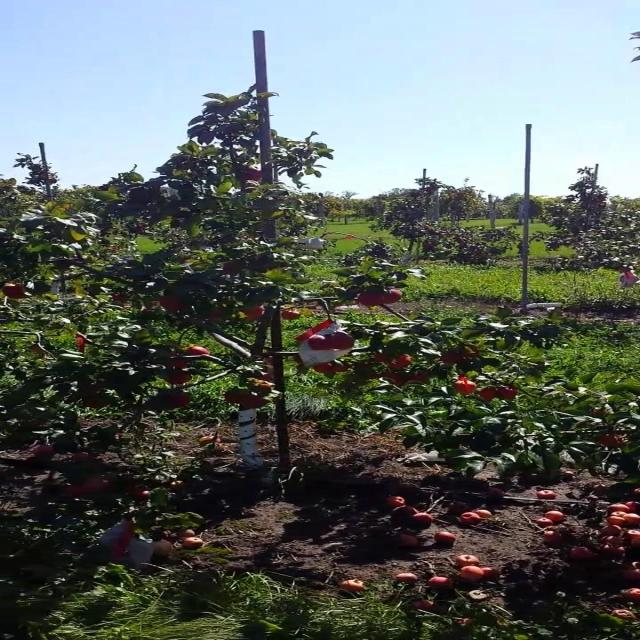apple: (596, 432, 630, 446), (237, 304, 264, 320), (327, 332, 354, 348), (306, 335, 332, 350), (378, 288, 402, 304), (2, 283, 25, 299), (356, 292, 382, 306), (386, 354, 411, 368), (452, 380, 476, 394), (166, 370, 190, 384), (169, 392, 190, 408), (239, 395, 267, 407), (158, 296, 180, 310), (380, 371, 402, 385), (329, 359, 350, 373), (476, 386, 496, 400), (167, 357, 190, 369), (183, 346, 210, 356), (439, 352, 461, 364), (495, 386, 517, 398), (222, 391, 244, 403), (406, 372, 428, 384), (160, 298, 182, 310), (241, 168, 261, 180), (293, 331, 314, 342), (205, 307, 224, 319), (84, 398, 106, 408), (221, 262, 239, 274), (461, 344, 479, 356), (253, 371, 272, 382), (279, 310, 299, 320), (312, 362, 332, 372), (313, 320, 333, 330), (252, 381, 272, 391), (329, 362, 348, 372), (372, 352, 389, 362), (110, 293, 126, 303), (590, 408, 606, 416), (622, 272, 636, 280)
